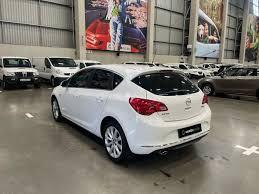opel: (185, 98, 192, 106)
